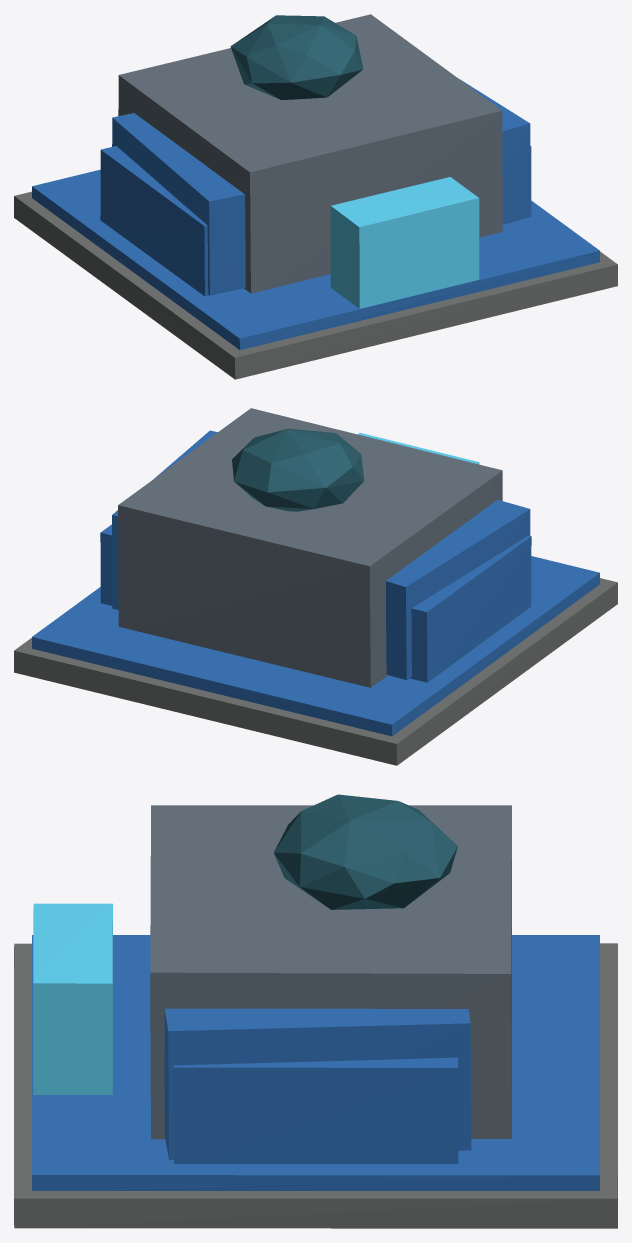
Rendered from SM_Alliance_AL_Barracks_LOD3.fbx.
3 renders of one model, top to bottom at view 1: azimuth 30°, elevation 25°; view 2: azimuth 150°, elevation 25°; view 3: azimuth 270°, elevation 25°, orthographic. The views are drawn at different scales.
Visible parts, largest first — view 1: LOD03_SM_Alliance_AL_Barracks; view 2: LOD03_SM_Alliance_AL_Barracks; view 3: LOD03_SM_Alliance_AL_Barracks.
Boxes of the visible parts, bbox=[...] form: LOD03_SM_Alliance_AL_Barracks: bbox=[14, 14, 617, 379]; LOD03_SM_Alliance_AL_Barracks: bbox=[14, 408, 617, 765]; LOD03_SM_Alliance_AL_Barracks: bbox=[14, 794, 617, 1228].
Size of the model in its own units: 597 by 597 by 318.
